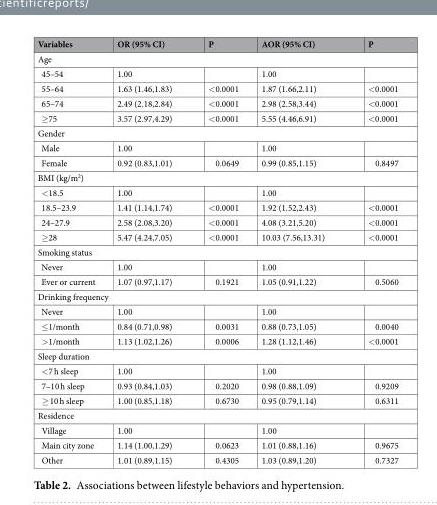table: (36, 37, 397, 465)
table column: (249, 37, 345, 465), (105, 37, 189, 465), (36, 37, 105, 465), (189, 37, 249, 465), (345, 37, 397, 465)
table column header: (36, 37, 397, 50)
table projected row header: (36, 50, 397, 65), (36, 125, 397, 140), (36, 169, 397, 184), (36, 288, 397, 303), (36, 348, 397, 363), (36, 407, 397, 422), (36, 244, 397, 258)
table row: (36, 50, 397, 65), (36, 65, 397, 80), (36, 80, 397, 95), (36, 95, 397, 110), (36, 110, 397, 125), (36, 125, 397, 140), (36, 154, 397, 169), (36, 169, 397, 184), (36, 184, 397, 199), (36, 199, 397, 214), (36, 214, 397, 229), (36, 229, 397, 244), (36, 258, 397, 273), (36, 273, 397, 288), (36, 288, 397, 303), (36, 303, 397, 318), (36, 318, 397, 333), (36, 333, 397, 348), (36, 348, 397, 363), (36, 377, 397, 392), (36, 392, 397, 407), (36, 407, 397, 422), (36, 422, 397, 437), (36, 437, 397, 452), (36, 140, 397, 154), (36, 244, 397, 258), (36, 363, 397, 377), (36, 37, 397, 50), (36, 452, 397, 465)
